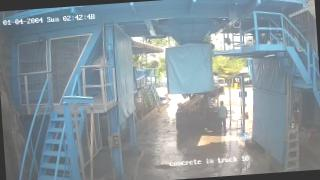cement_mixer_truck: (175, 71, 224, 139)
